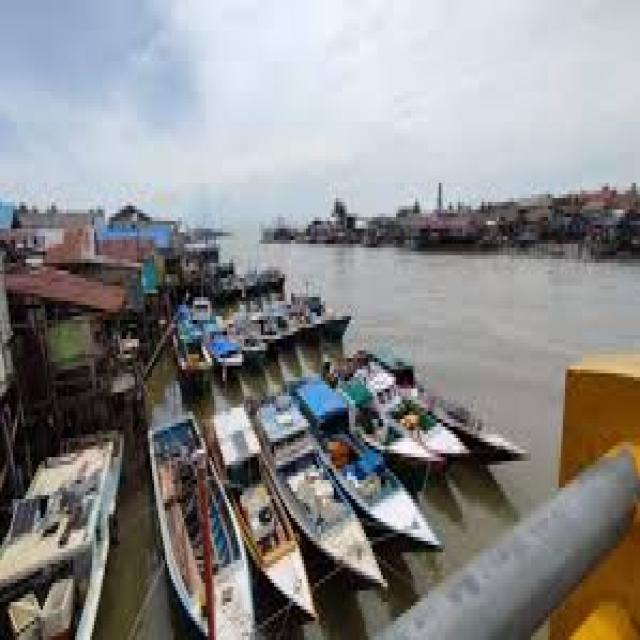Fishing Boat: (65, 162, 473, 603)
